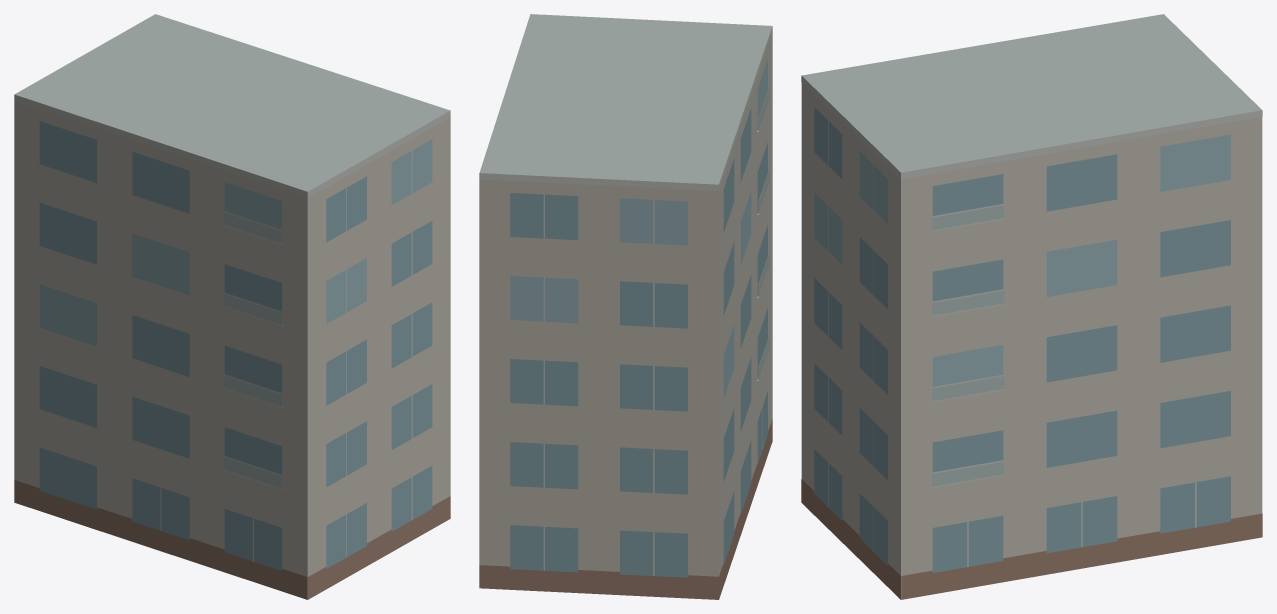
File: survey-upis-32866158.glb
3 views of the same model, side by side, from view 1: azimuth 30°, elevation 25°; view 2: azimuth 150°, elevation 25°; view 3: azimuth 270°, elevation 25° (orthographic). The views are drawn at different scales.
Parts seen in each view (by area): view 1: survey-upis-32866158.tmp; view 2: survey-upis-32866158.tmp; view 3: survey-upis-32866158.tmp.
Boxes of the visible parts, x1,y1,x2,y2 form: survey-upis-32866158.tmp: (14,14,450,599); survey-upis-32866158.tmp: (479,14,772,599); survey-upis-32866158.tmp: (801,14,1262,599).
Size of the model in its own units: 12.48 by 15.65 by 15.32.
